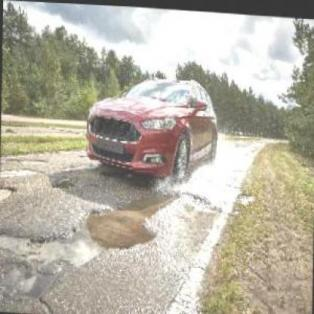Hueco: (70, 204, 156, 251), (51, 174, 78, 187)
